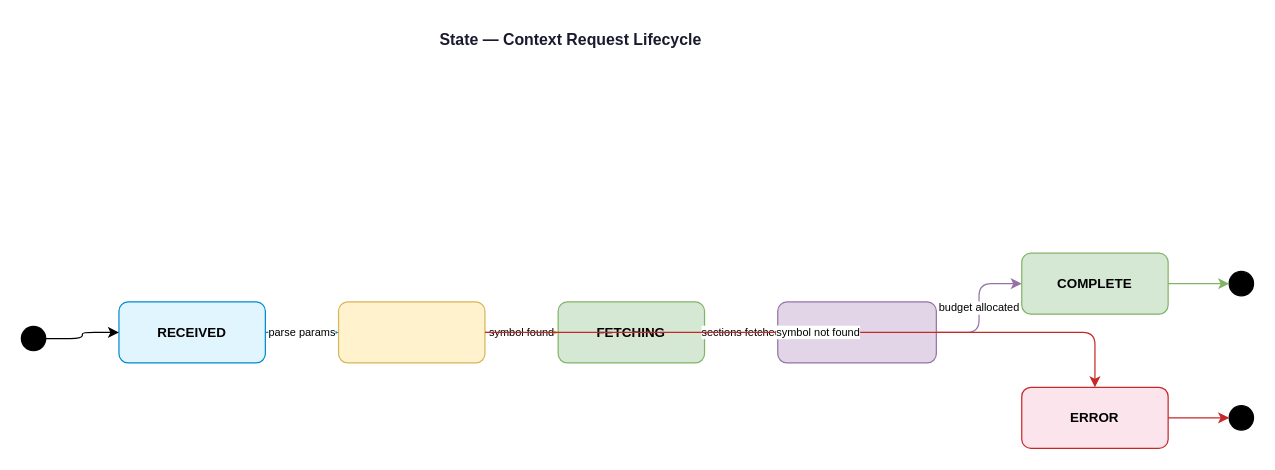
Image size: 1275x470. Some labels were removed from this diagram. The centre of each missing label's shape, as x and y in pixels:
"ASSEMBLING" goes at [856,332].
"RESOLVING" goes at [411,332].
